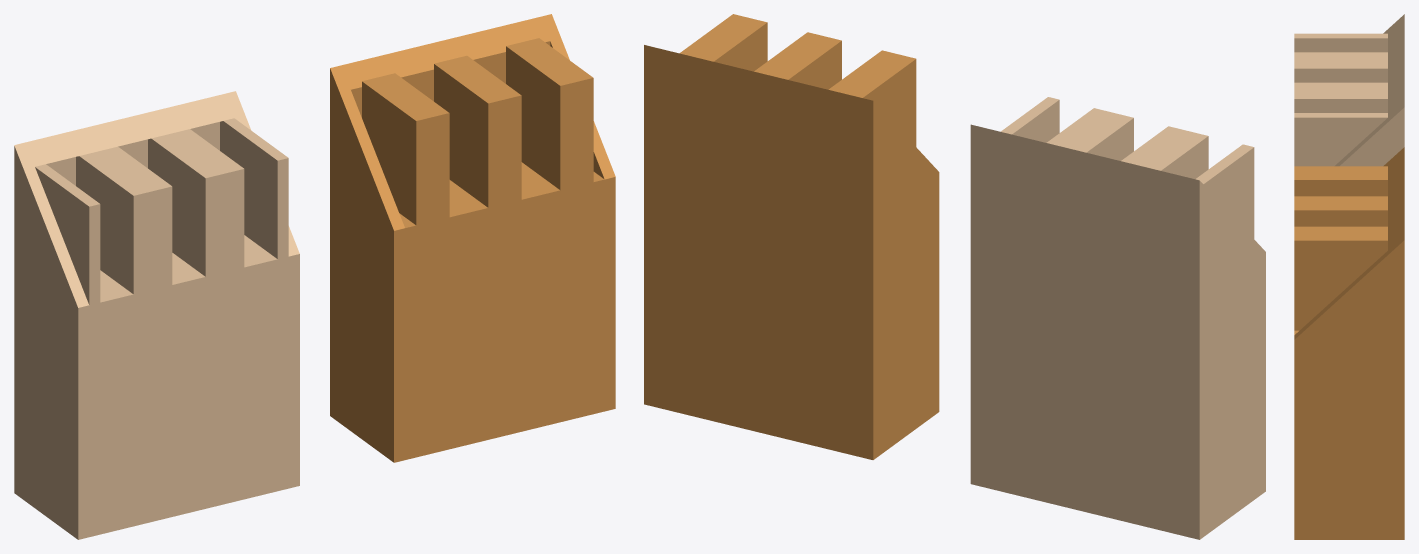
3 views of the same model, side by side, from view 1: azimuth 30°, elevation 25°; view 2: azimuth 150°, elevation 25°; view 3: azimuth 270°, elevation 25° (orthographic). The views are drawn at different scales.
Size of the model in its own units: 9.7 by 6 by 2.
